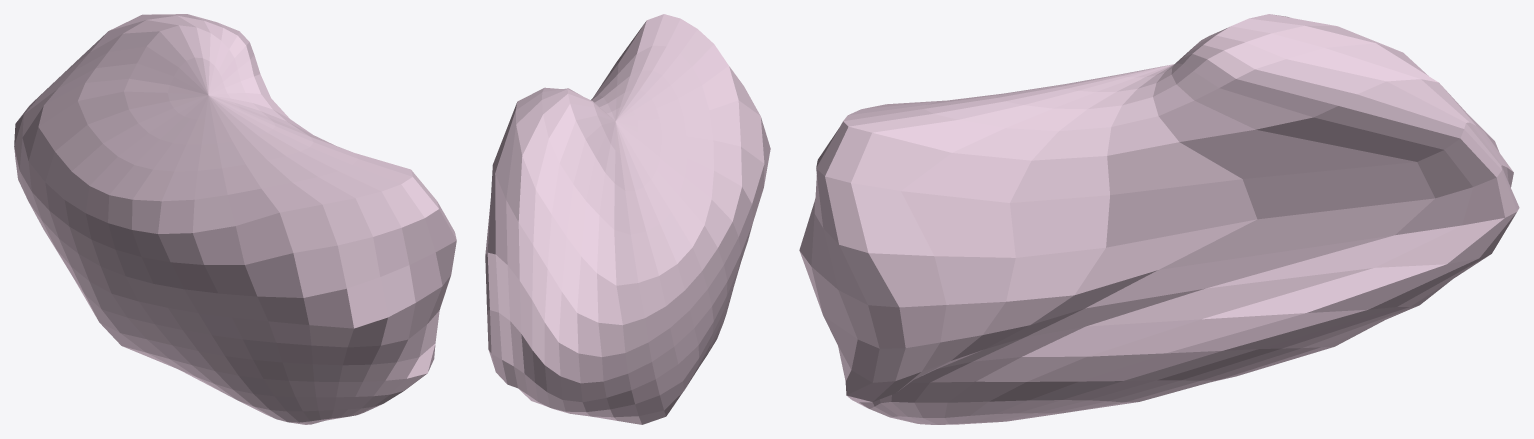
The model's file is Asteroid type 3.fbx.
3 views of the same model, side by side, from view 1: azimuth 30°, elevation 25°; view 2: azimuth 150°, elevation 25°; view 3: azimuth 270°, elevation 25° (orthographic). The views are drawn at different scales.
Visible parts, largest first — view 1: Sphere; view 2: Sphere; view 3: Sphere.
Boxes of the visible parts, bbox=[...] form: Sphere: bbox=[14, 14, 456, 424]; Sphere: bbox=[485, 14, 770, 424]; Sphere: bbox=[799, 14, 1519, 424].
Size of the model in its own units: 1.96 by 2.58 by 4.14.
